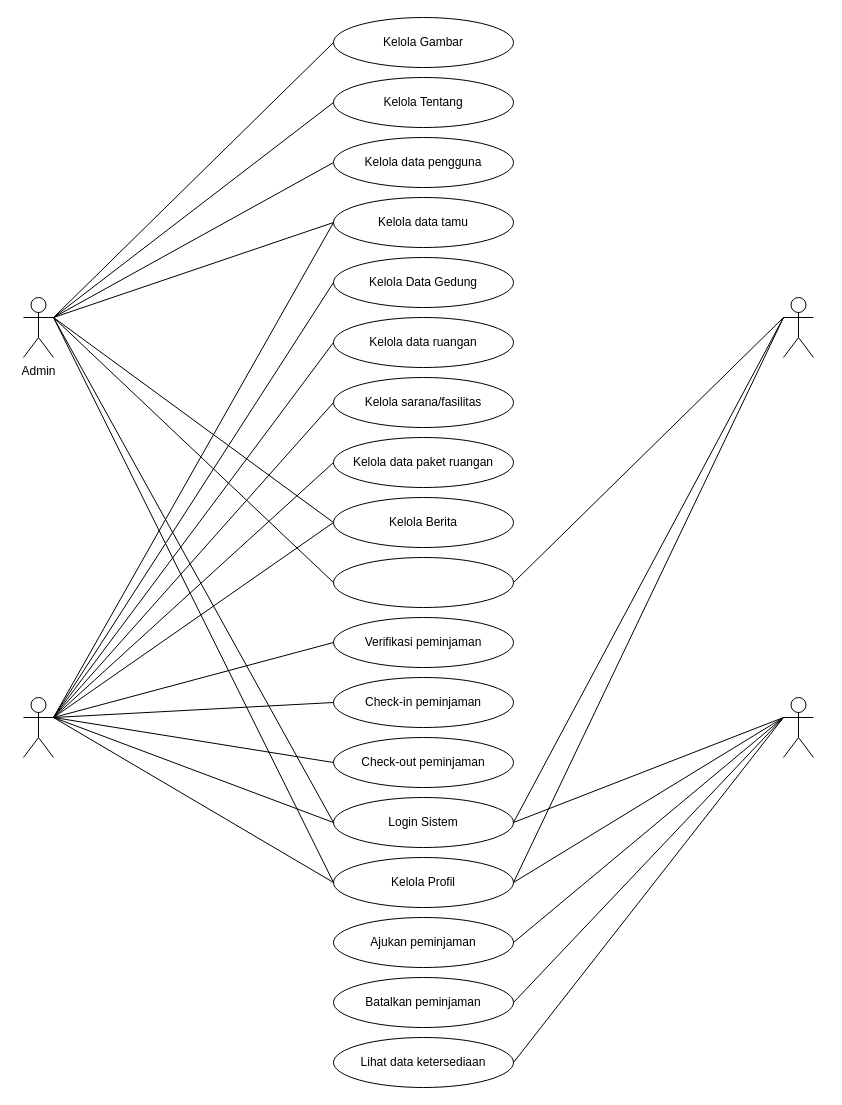
The diagram is 842 pixels wide and 1105 high, and some of its shapes have lost their labels. The shapes that lost their labels are listed below. From the top down, each one's centre as x and y in pixels, then its label:
(798,327): Pimpinan
(423,582): Lihat laporan penggunaan
(38,727): petugas
(798,727): Peminjam
